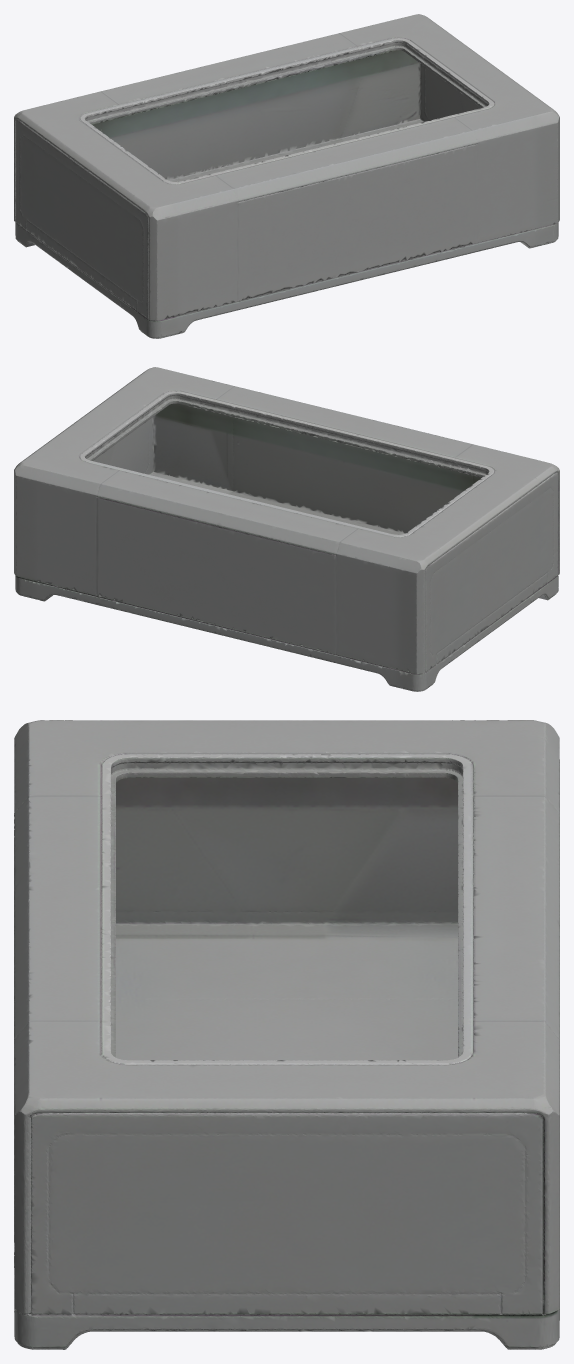
Rendered from magnetHolder.fbx.
The picture shows the model from 3 angles, top to bottom: view 1: azimuth 30°, elevation 25°; view 2: azimuth 150°, elevation 25°; view 3: azimuth 270°, elevation 25°; orthographic projection. The views are drawn at different scales.
Visible parts, largest first — view 1: Mesh_0; view 2: Mesh_0; view 3: Mesh_0.
Part boxes in pixels (left/top/right/bottom): Mesh_0: left=14, top=14, right=559, bottom=338; Mesh_0: left=14, top=367, right=559, bottom=691; Mesh_0: left=14, top=720, right=559, bottom=1349.
Bounding box in the file's own units: 200 × 59.98 × 119.
Materials: 1 (1 with a texture image).
